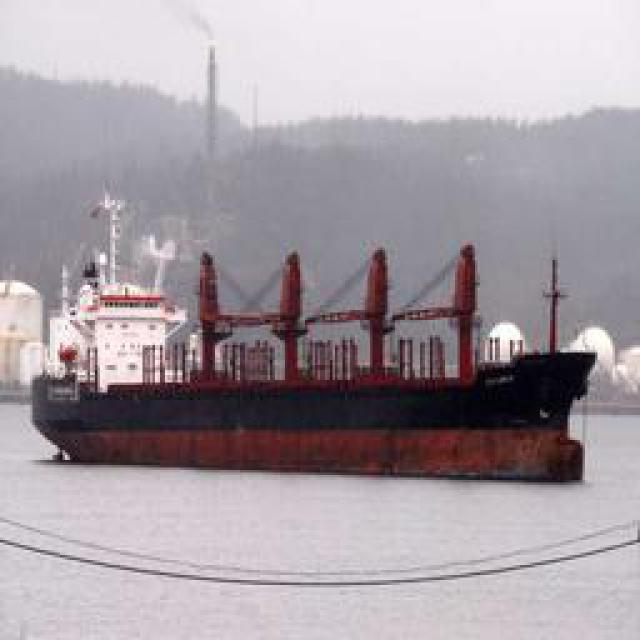Ship: (26, 226, 606, 466)
